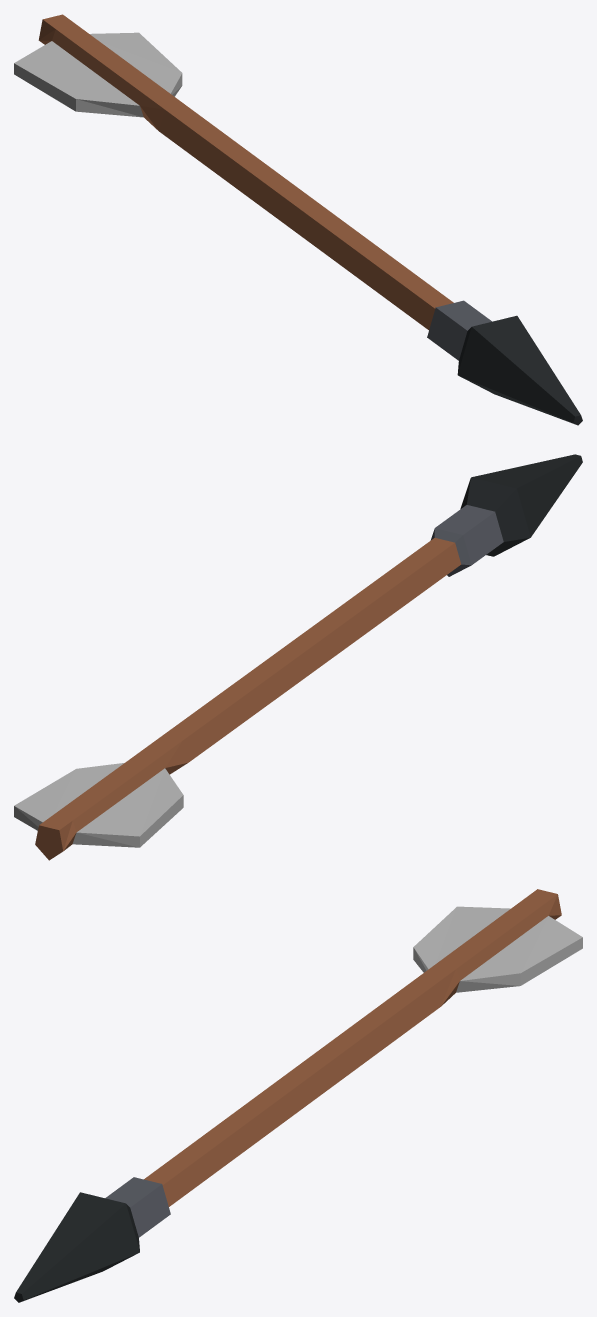
File: Arrow.FBX
3 renders of one model, top to bottom at view 1: azimuth 30°, elevation 25°; view 2: azimuth 150°, elevation 25°; view 3: azimuth 330°, elevation 25°, orthographic.
Visible parts, largest first — view 1: Arrow.001; view 2: Arrow.001; view 3: Arrow.001.
Boxes of the visible parts, <box> form: Arrow.001: <box>14,14,582,425</box>; Arrow.001: <box>14,454,582,860</box>; Arrow.001: <box>14,889,582,1302</box>.
Size of the model in its own units: 25.04 by 14.02 by 182.
1 material, 1 textured.
